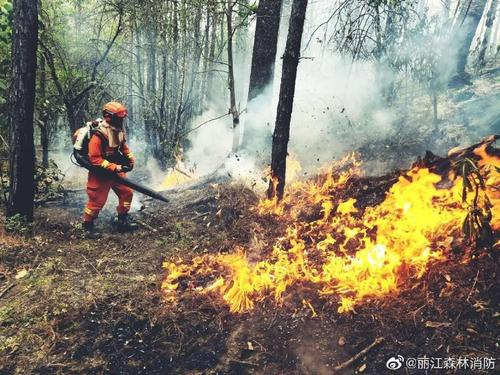fire: (187, 158, 500, 321), (161, 255, 181, 303)
